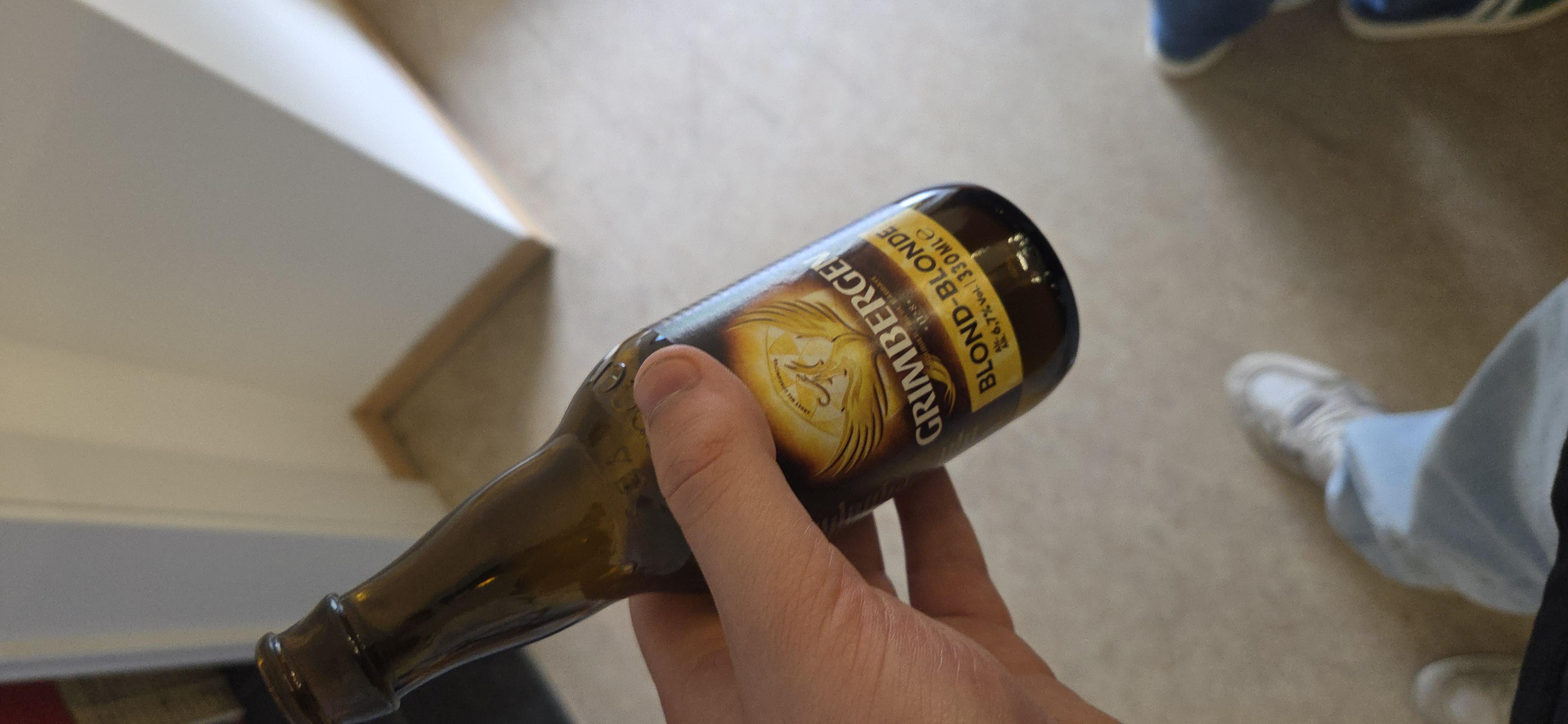Glass: (0, 114, 1185, 504)
